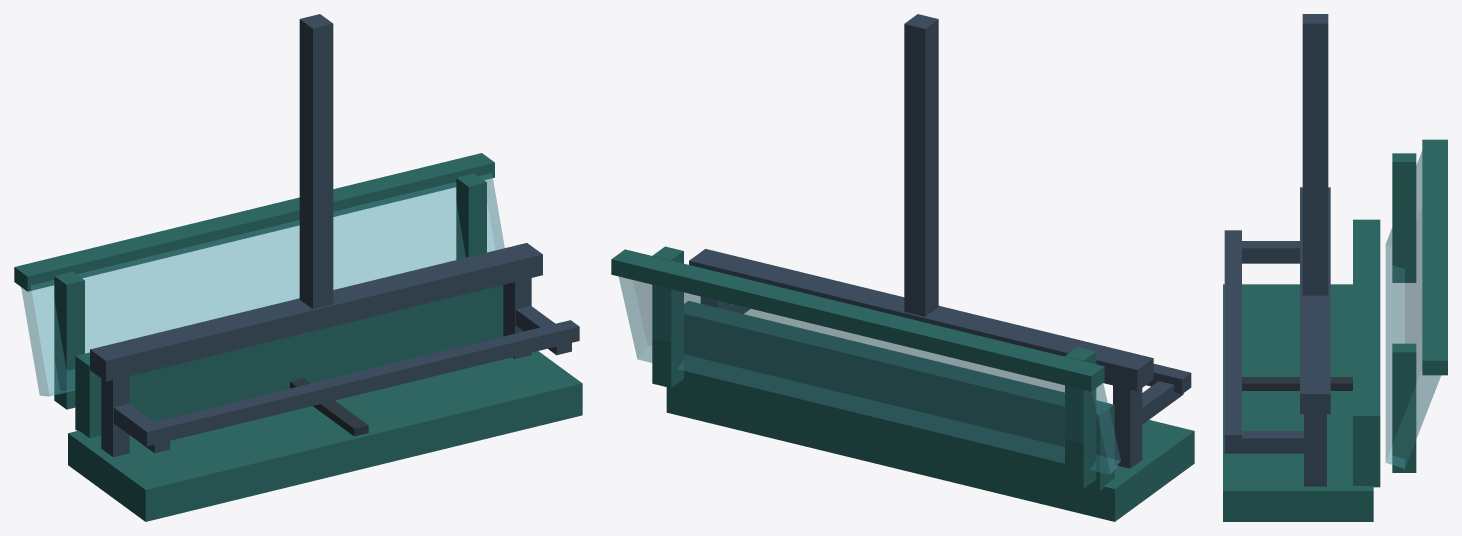
The model's file is double.glb.
The picture shows the model from 3 angles, left to right: view 1: azimuth 30°, elevation 25°; view 2: azimuth 150°, elevation 25°; view 3: azimuth 270°, elevation 25°; orthographic projection. The views are drawn at different scales.
Parts seen in each view (by area): view 1: double; view 2: double; view 3: double.
Boxes of the visible parts, left/top/right/bottom form: double: left=14, top=14, right=582, bottom=521; double: left=611, top=14, right=1194, bottom=521; double: left=1223, top=14, right=1447, bottom=521.
Size of the model in its own units: 1.53 by 1.29 by 0.6575.
